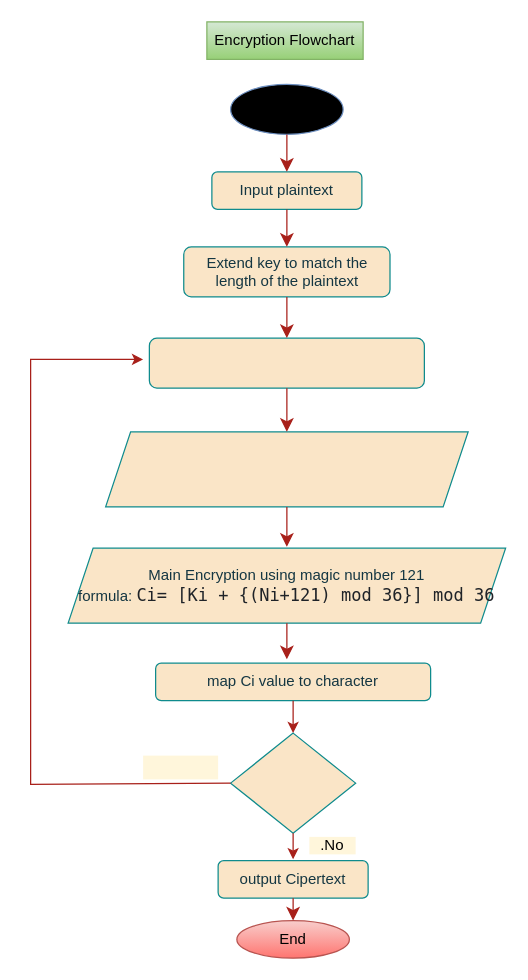
Some shapes in this 528 by 980 pixel diagram are drawn without their labels. The shapes that lost their labels are listed below. From the top down, each one's centre as x and y in pixels, then its label:
[286,362]: Determine value for " i-th " character using table
[286,469]: Calculate intermediate position using key formula: Ni = (xi + ⌊(K/2)⌋ } mod 36
[180,767]: Yes
[292,782]: Character available ?
